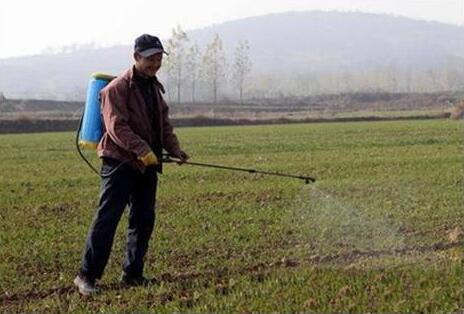berrl: (80, 71, 113, 150)
